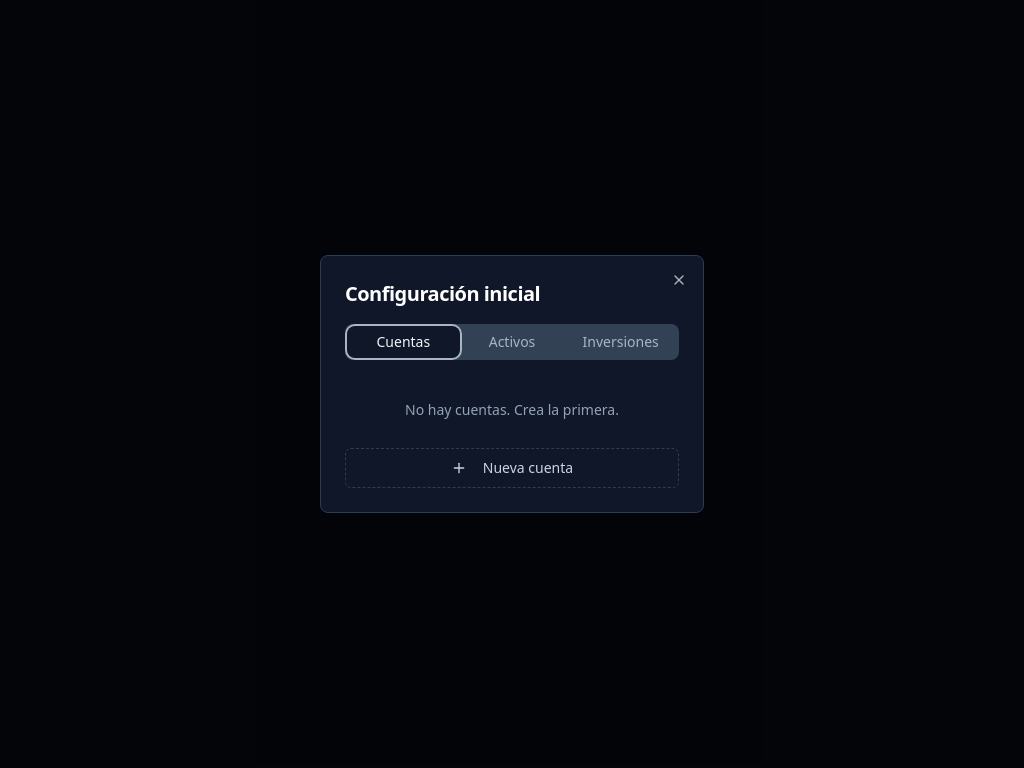
Test: AccountsModal – edit and update › cancels asset create form when X is clicked — hides form
What coordinates should you click on to do the following:
click the tab "Activos"
I would click on:
 (512, 342)
Its box is [458,328,566,356].
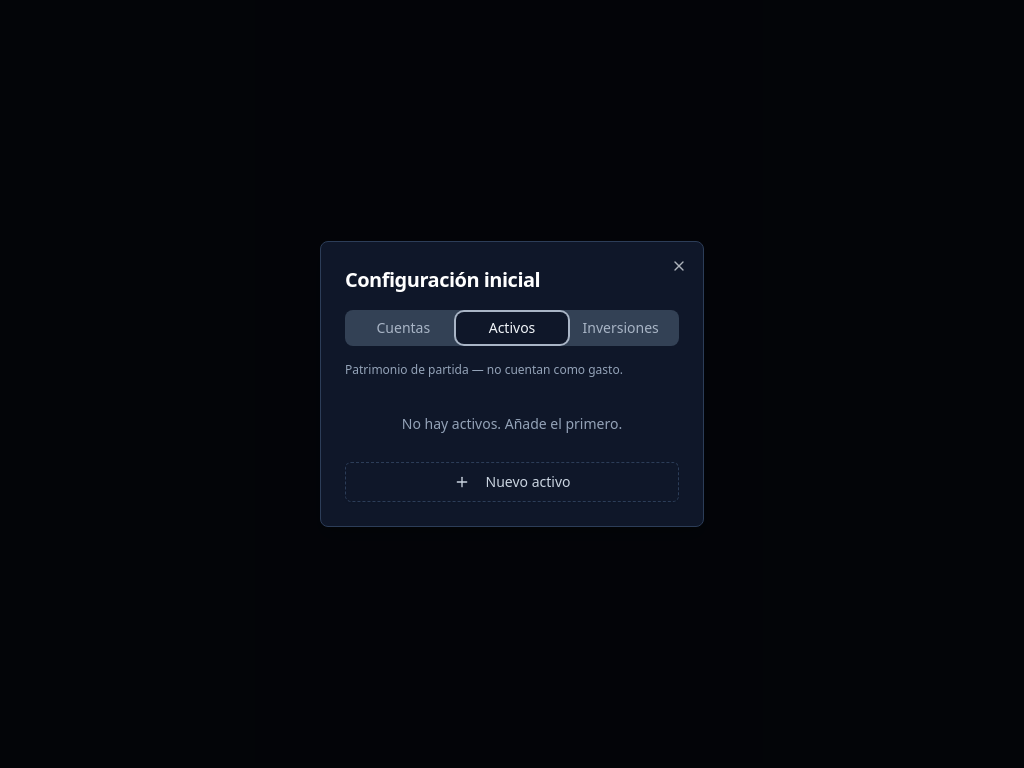
What coordinates should you click on to do the following:
click the button "Nuevo activo"
I would click on:
 (512, 482)
Its box is [345,462,679,502].
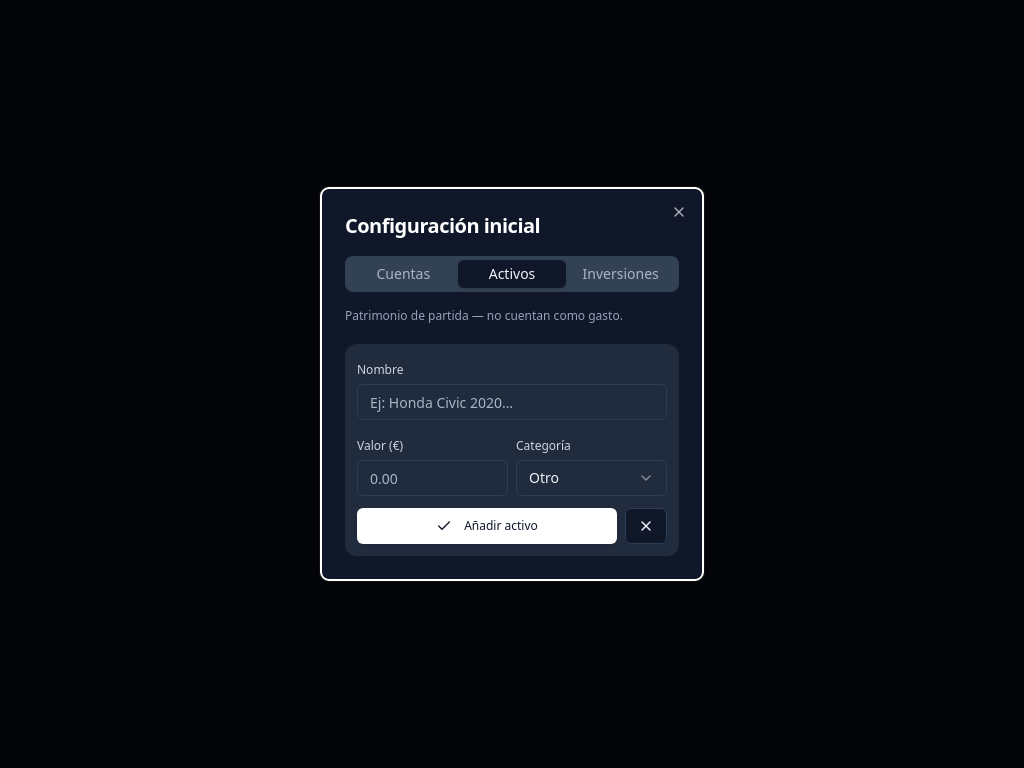
Expected: the button "Añadir activo" is shown, [357,508,617,544]
What coordinates should you click on to do the following:
click the button without text below "Valor (€)"
I would click on:
 (646, 526)
Its box is [625,508,667,544].
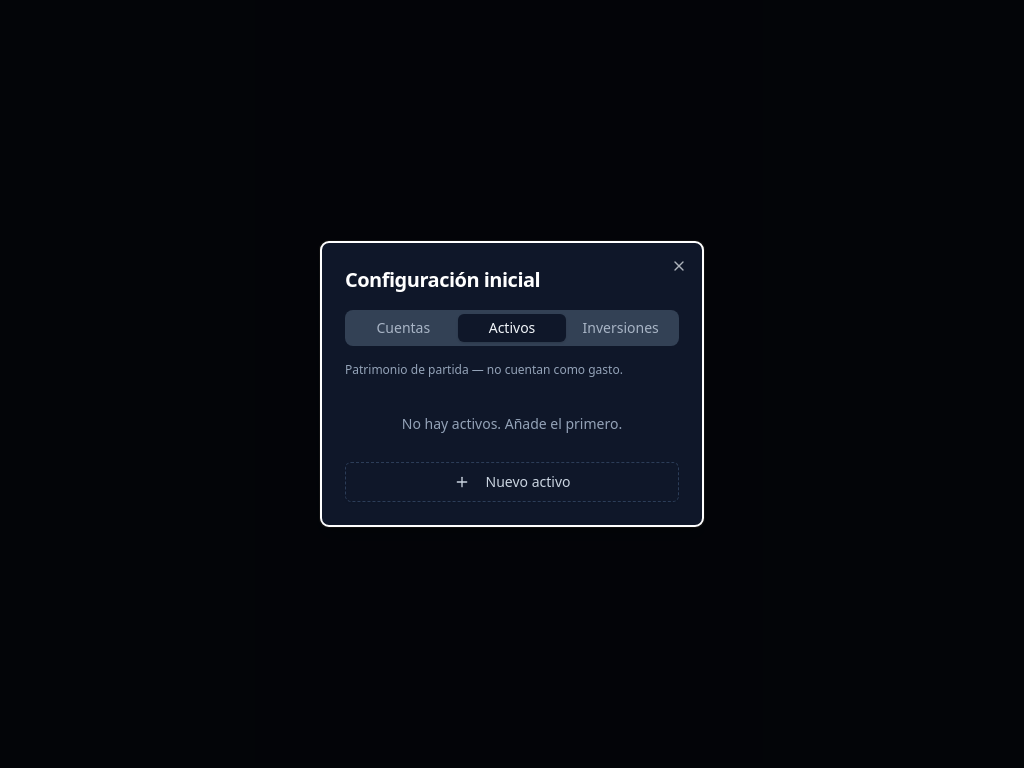
Expected: the button "Añadir activo" is gone
